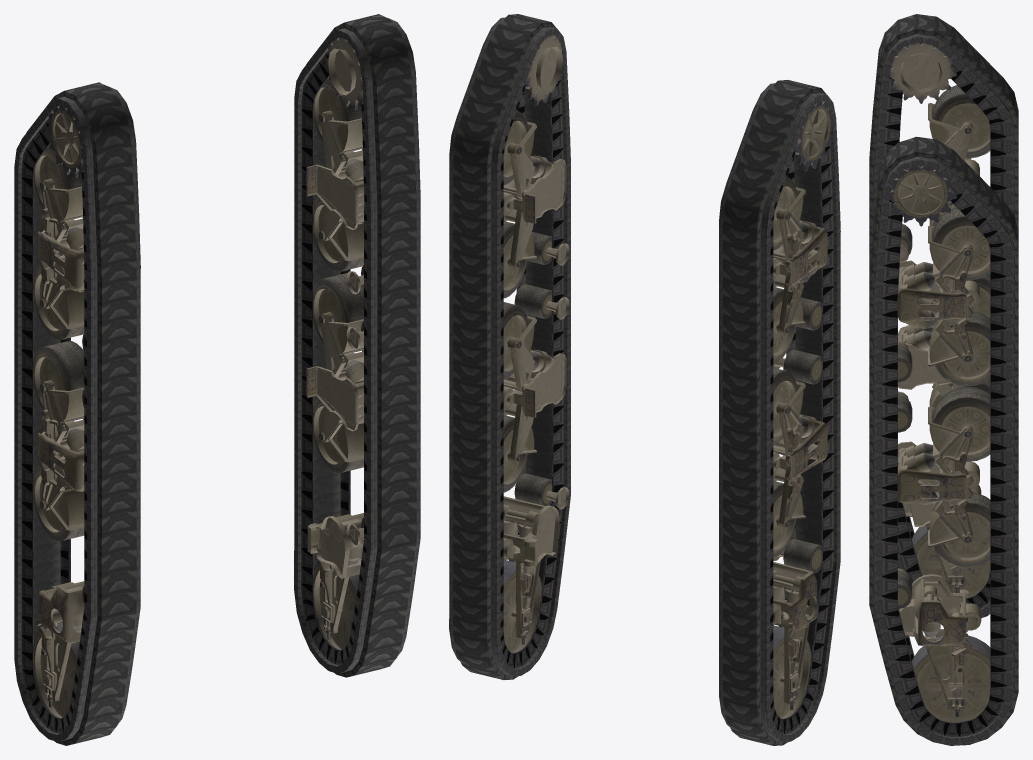
The model's file is Chassis.glb.
3 renders of one model, left to right at view 1: azimuth 30°, elevation 25°; view 2: azimuth 150°, elevation 25°; view 3: azimuth 270°, elevation 25°, orthographic. The views are drawn at different scales.
Visible parts, largest first — view 1: set_3_group_0, set_2_group_0, set_0_group_0, set_1_group_0; view 2: set_3_group_0, set_2_group_0, set_0_group_0, set_1_group_0; view 3: set_0_group_0, set_2_group_0, set_3_group_0, set_1_group_0.
Part boxes in pixels (x1,y1,x2,y2): set_3_group_0: (14,82,140,745); set_2_group_0: (294,14,420,677); set_0_group_0: (306,37,364,649); set_1_group_0: (34,105,84,718); set_3_group_0: (719,80,840,745); set_2_group_0: (449,14,570,679); set_0_group_0: (503,35,569,652); set_1_group_0: (773,101,832,718); set_0_group_0: (889,165,990,722); set_2_group_0: (869,136,1018,745); set_3_group_0: (869,14,1018,617); set_1_group_0: (889,42,990,597).
Bounding box in the file's own units: 2.77 × 5.24 × 1.2.
4 materials, 4 textured.
